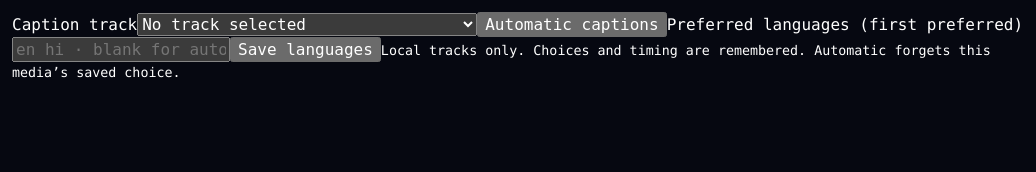
Scenario: caption selection › rejects more than five language codes before applying
Type "en hi es fr de it" into the field named "Preferred caption languages" at (121, 50), box left=12, top=37, right=230, bottom=62
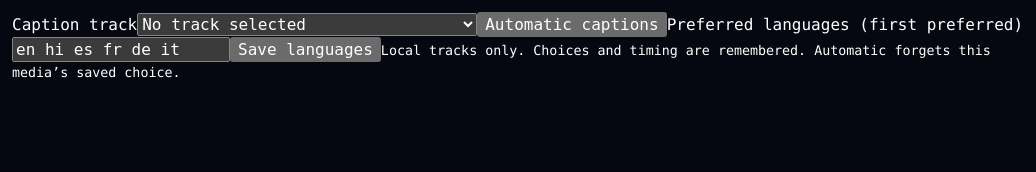
Click the button "Save languages" at (305, 50), box left=230, top=37, right=381, bottom=62
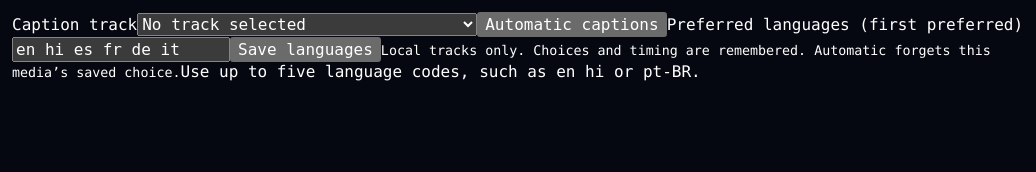
Expected: the text "Use up to five language codes, such as en hi or pt-BR." is shown, left=180, top=62, right=701, bottom=81
